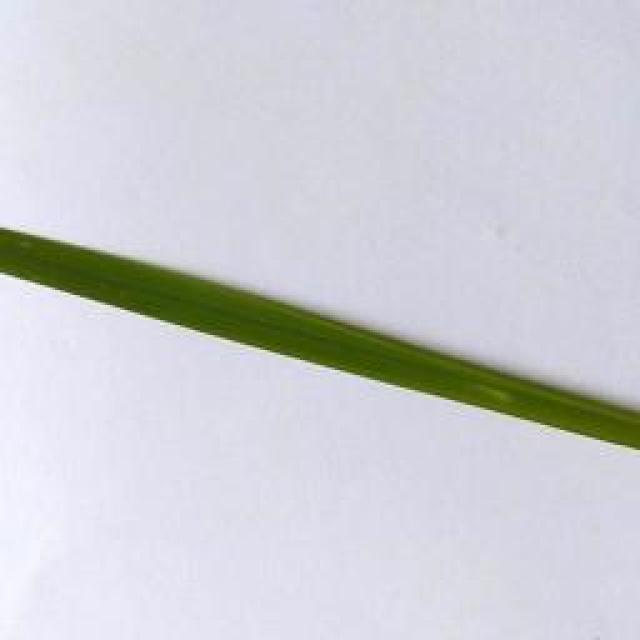Healthy-Plant: (0, 221, 640, 452)
